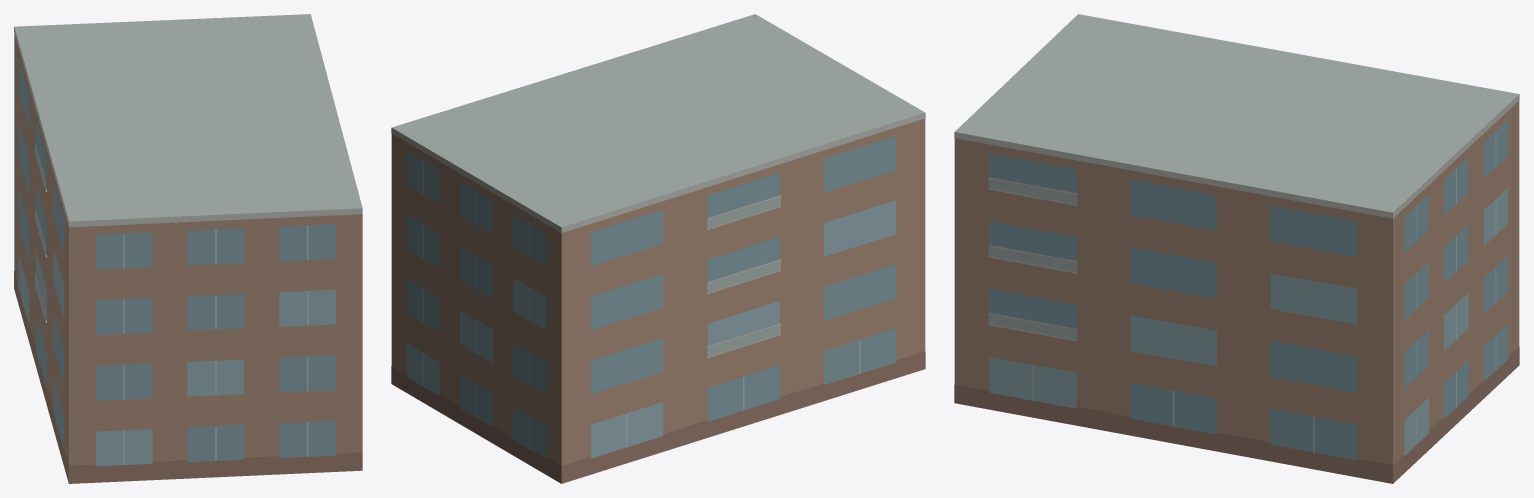
Rendered from survey-upis-32531119.glb.
3 views of the same model, side by side, from view 1: azimuth 30°, elevation 25°; view 2: azimuth 150°, elevation 25°; view 3: azimuth 270°, elevation 25° (orthographic). The views are drawn at different scales.
Parts seen in each view (by area): view 1: survey-upis-32531119.tmp; view 2: survey-upis-32531119.tmp; view 3: survey-upis-32531119.tmp.
Boxes of the visible parts, <box> form: survey-upis-32531119.tmp: <box>14,14,362,483</box>; survey-upis-32531119.tmp: <box>391,14,925,483</box>; survey-upis-32531119.tmp: <box>954,14,1519,483</box>.
Bounding box in the file's own units: 17.3 × 11 × 20.78.
